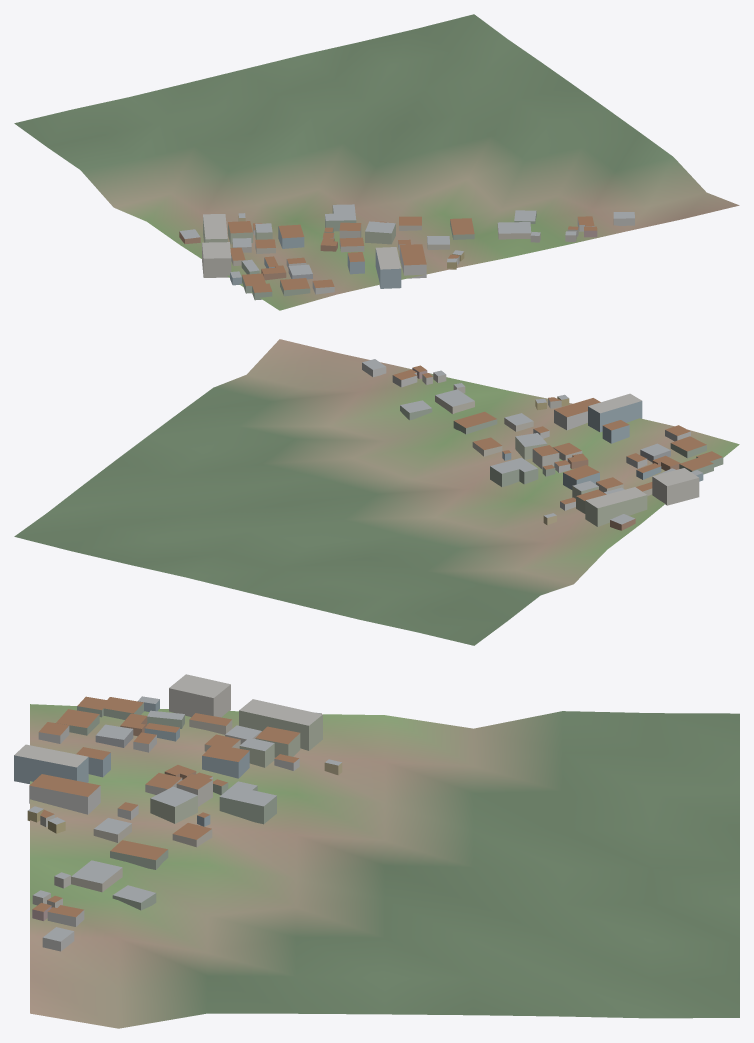
3 renders of one model, top to bottom at view 1: azimuth 30°, elevation 25°; view 2: azimuth 150°, elevation 25°; view 3: azimuth 270°, elevation 25°, orthographic. The views are drawn at different scales.
Visible parts, largest first — view 1: Lo; view 2: Lo; view 3: Lo.
Part boxes in pixels (x1,y1,x2,y2): Lo: (14, 14, 739, 310); Lo: (14, 339, 739, 645); Lo: (14, 674, 739, 1028).
Size of the model in its own units: 266 by 19.41 by 262.
